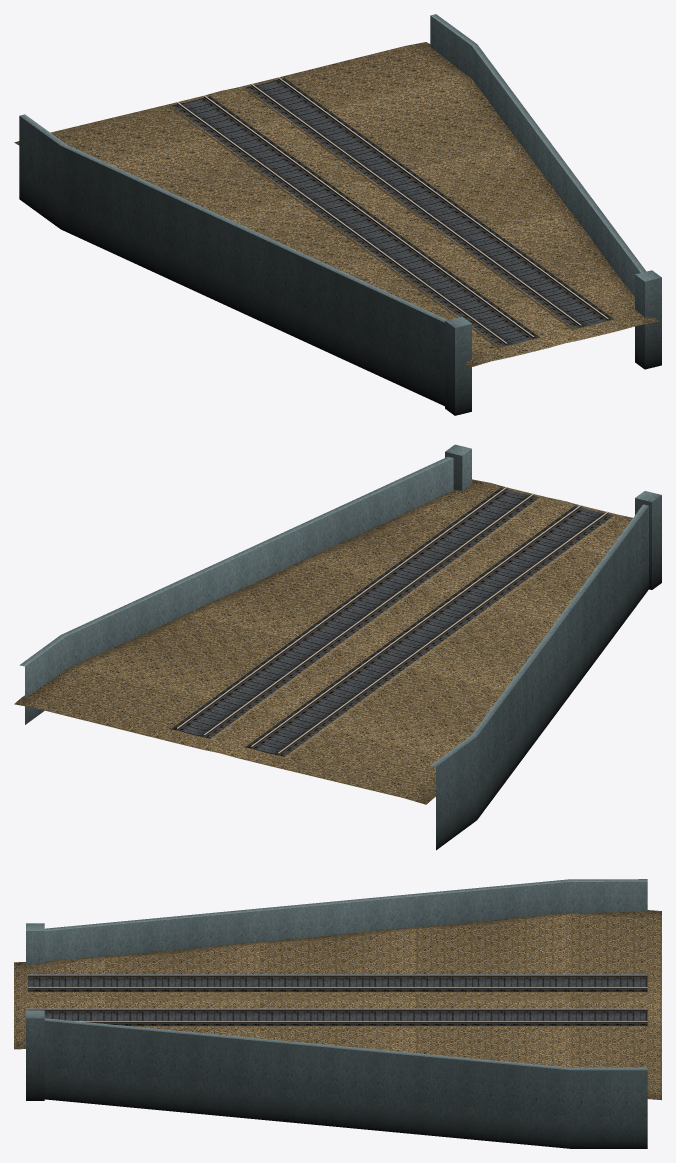
Rendered from 4_TO_2RAIL.glb.
3 renders of one model, top to bottom at view 1: azimuth 30°, elevation 25°; view 2: azimuth 150°, elevation 25°; view 3: azimuth 270°, elevation 25°, orthographic. The views are drawn at different scales.
Visible parts, largest first — view 1: obj6, obj3; view 2: obj6, obj3; view 3: obj6, obj3.
Part boxes in pixels (left/top/right/bottom): obj6: left=14, top=14, right=659, bottom=406; obj3: left=445, top=270, right=661, bottom=415; obj6: left=14, top=456, right=648, bottom=850; obj3: left=445, top=444, right=661, bottom=589; obj6: left=14, top=879, right=661, bottom=1148; obj3: left=26, top=923, right=44, bottom=1100.
Size of the model in its own units: 72.96 by 14.71 by 105.
5 materials, 4 textured.
